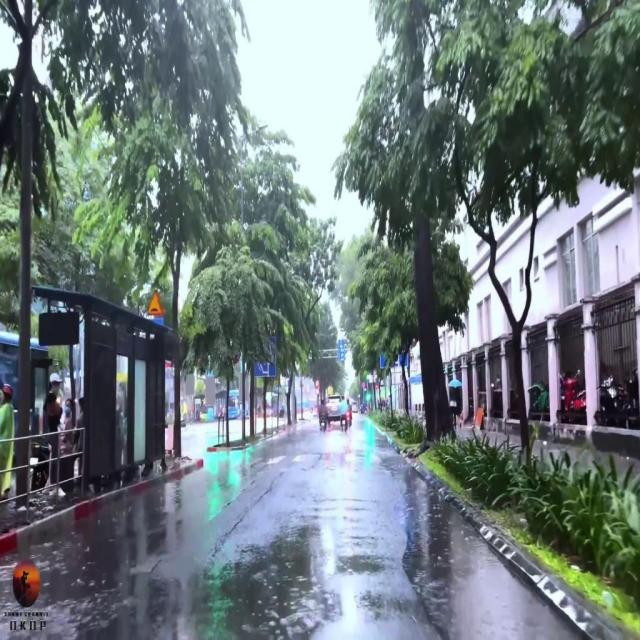duong_co_song_map_mo_nhan_tao: (148, 288, 164, 314)
khac: (338, 340, 344, 362)
